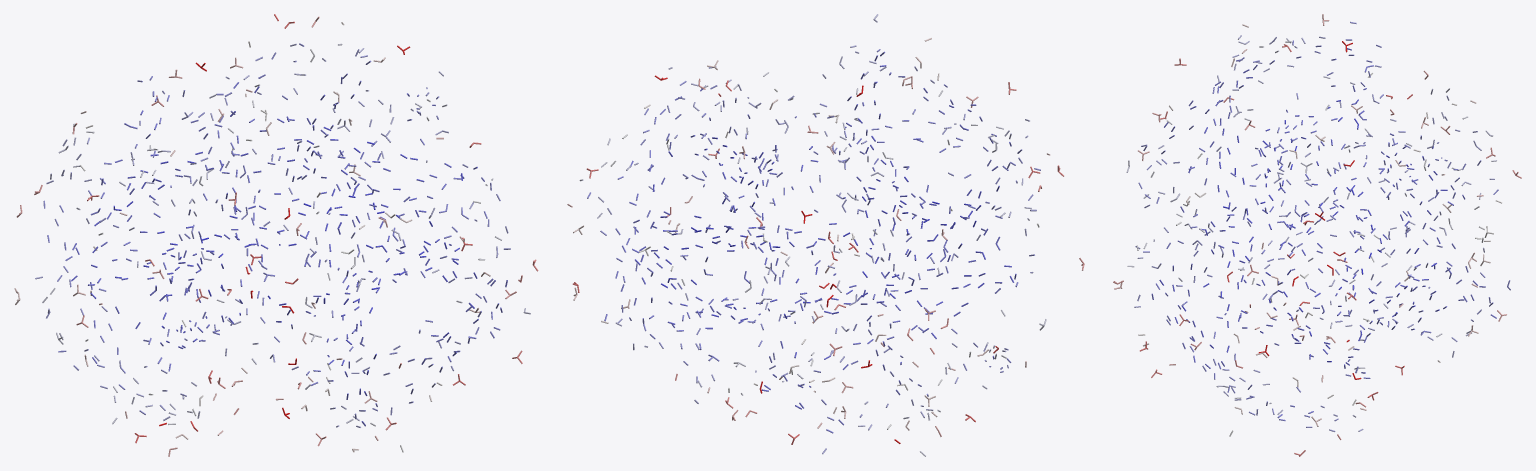
Rendered from 4hhb__sticks__b-factor__H.glb.
The picture shows the model from 3 angles, left to right: view 1: azimuth 30°, elevation 25°; view 2: azimuth 150°, elevation 25°; view 3: azimuth 270°, elevation 25°; orthographic projection. The views are drawn at different scales.
Visible parts, largest first — view 1: Renderer Node; view 2: Renderer Node; view 3: Renderer Node.
Part boxes in pixels (<box>): Renderer Node: <box>14,14,538,456</box>; Renderer Node: <box>567,14,1084,456</box>; Renderer Node: <box>1113,14,1521,456</box>.
Bounding box in the file's own units: 68.23 × 57.99 × 58.76.
